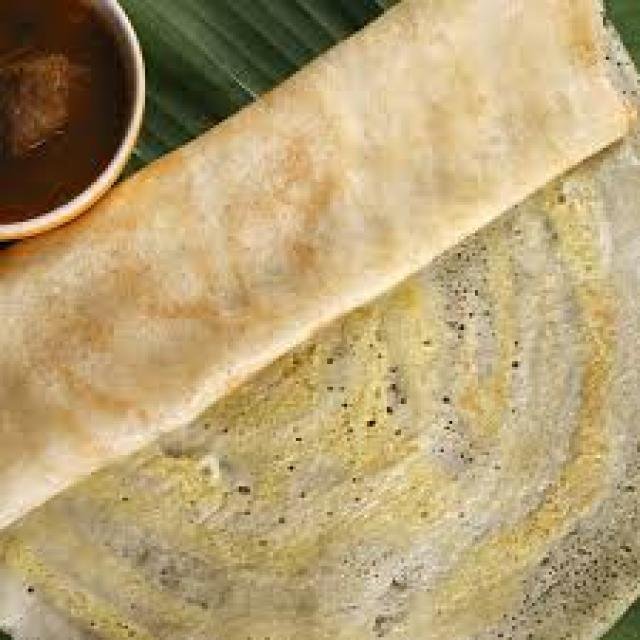DOSA: (0, 0, 637, 637)
